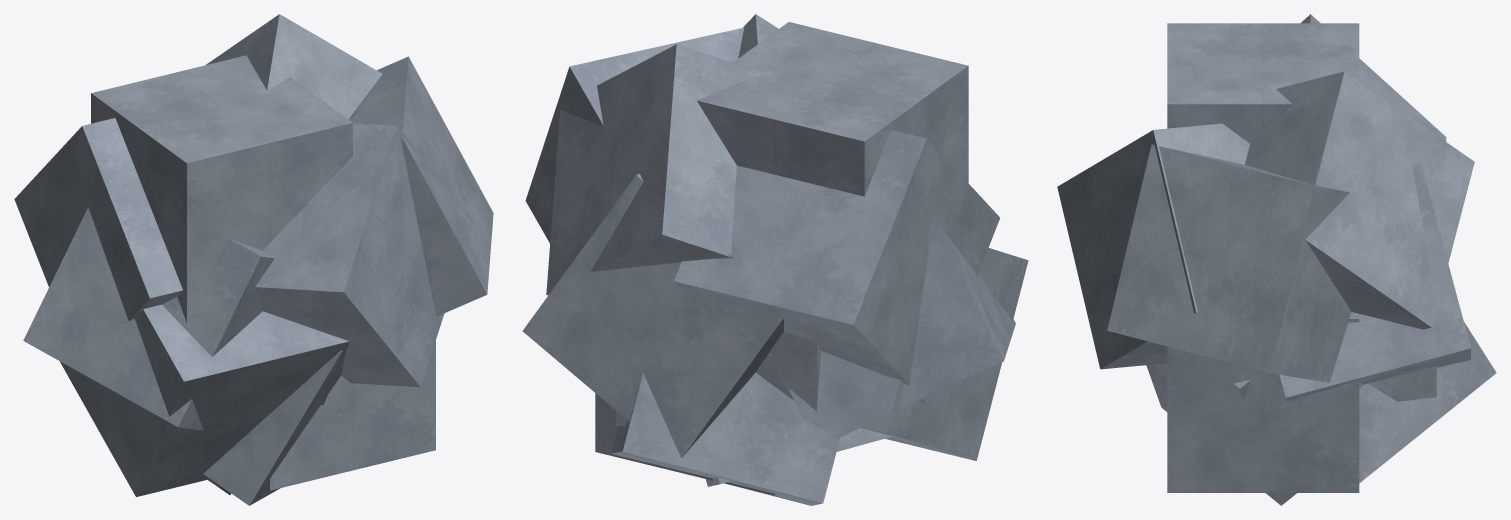
File: asteroid-1.fbx
3 renders of one model, left to right at view 1: azimuth 30°, elevation 25°; view 2: azimuth 150°, elevation 25°; view 3: azimuth 270°, elevation 25°, orthographic. The views are drawn at different scales.
Visible parts, largest first — view 1: mergedBlocks; view 2: mergedBlocks; view 3: mergedBlocks.
Part boxes in pixels (x1,y1,x2,y2): mergedBlocks: (14, 14, 493, 505); mergedBlocks: (522, 14, 1028, 505); mergedBlocks: (1057, 14, 1496, 505).
Bounding box in the file's own units: 27.47 × 24.91 × 22.9.
